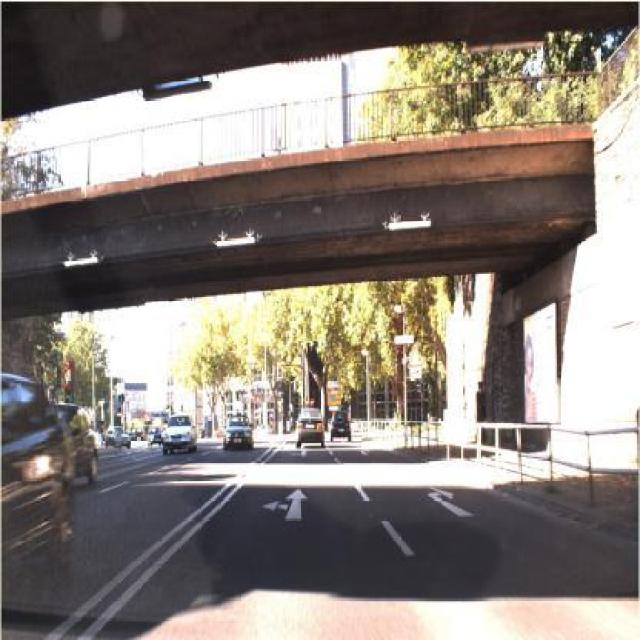give_way: (408, 345, 424, 370)
